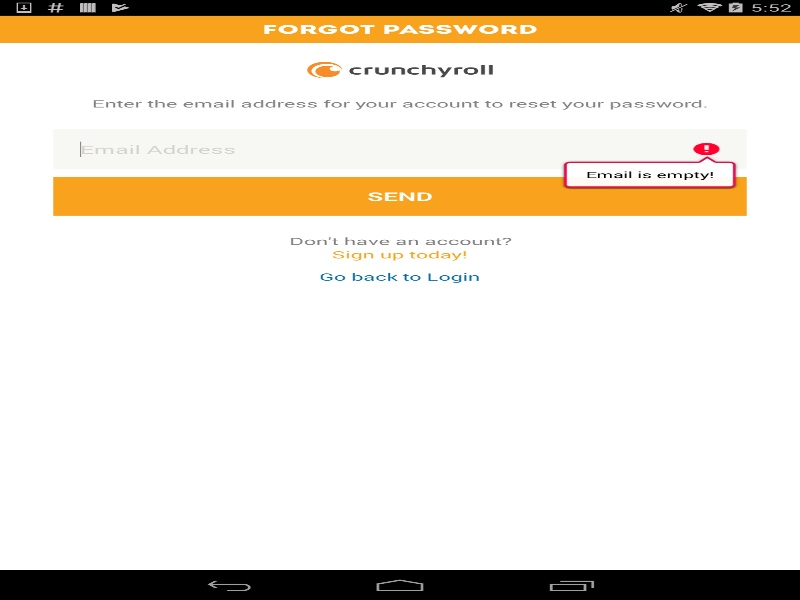Input: (80, 141, 720, 156)
